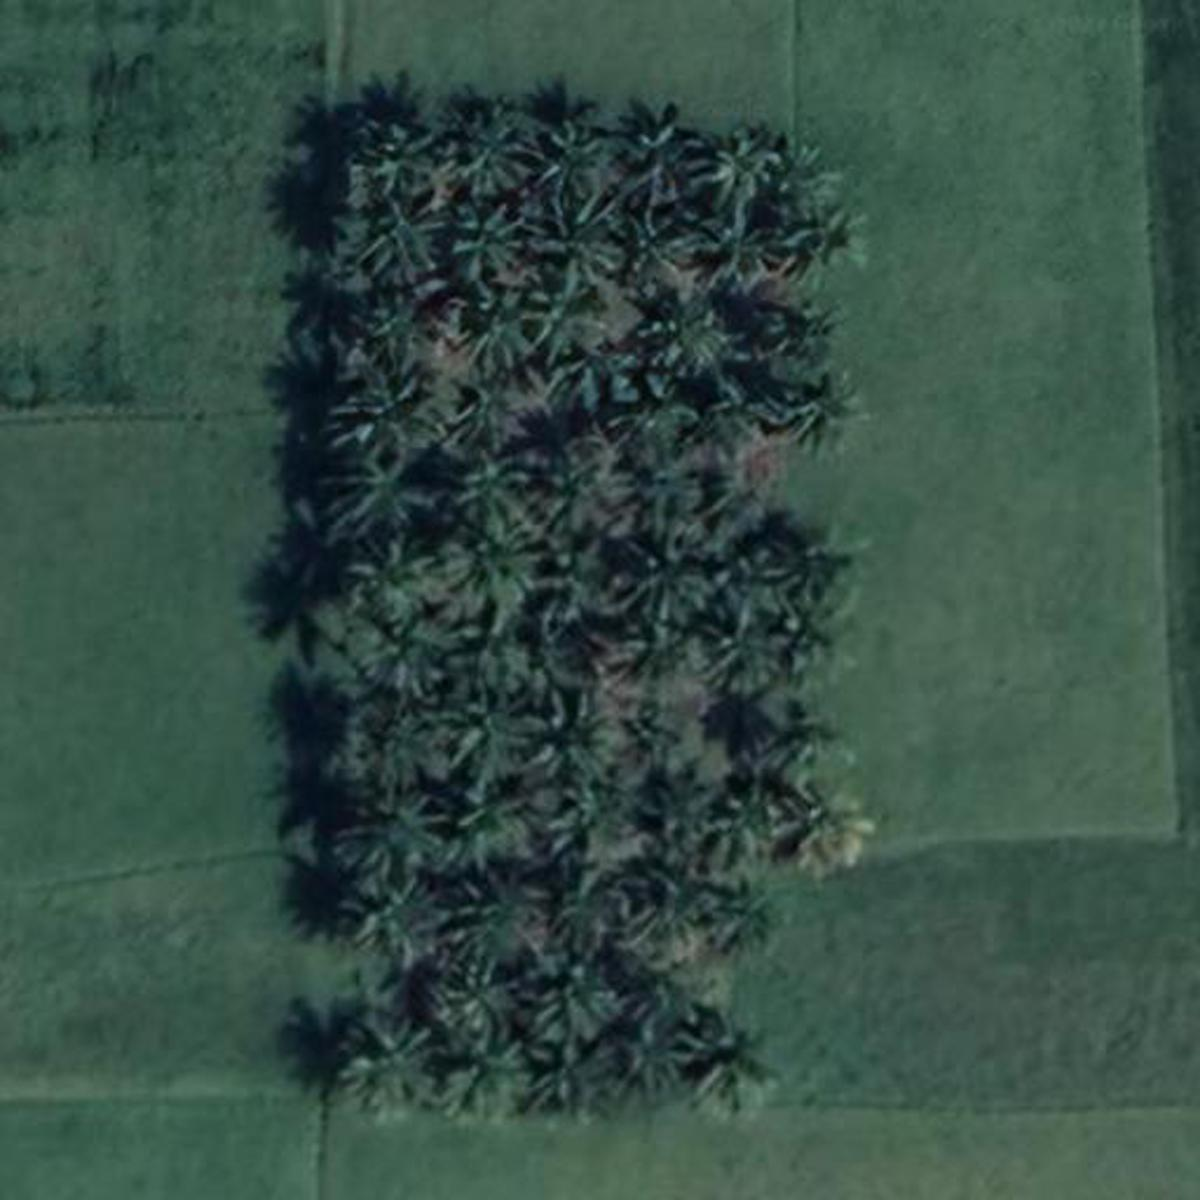coconut: (771, 370, 876, 466), (684, 180, 778, 284), (344, 778, 451, 869), (337, 1014, 426, 1122), (642, 278, 735, 379), (616, 956, 726, 1038), (679, 1031, 780, 1120), (325, 373, 438, 452), (344, 201, 459, 278), (431, 1035, 541, 1113), (440, 438, 525, 538), (621, 532, 707, 632), (525, 953, 627, 1035), (435, 541, 546, 616), (534, 780, 637, 860), (337, 536, 435, 621), (438, 693, 536, 778), (611, 440, 703, 529), (731, 703, 841, 778), (536, 440, 621, 532), (522, 203, 618, 285), (442, 114, 538, 192), (459, 281, 541, 373), (710, 536, 789, 630), (536, 696, 623, 780), (703, 775, 787, 862), (604, 1014, 686, 1103), (433, 946, 522, 1027), (332, 459, 431, 532), (609, 205, 707, 278), (792, 787, 874, 874), (543, 534, 618, 627), (457, 778, 541, 862), (367, 609, 459, 684), (442, 618, 543, 686), (618, 627, 712, 700), (703, 876, 796, 949), (623, 105, 698, 195), (562, 876, 642, 958), (635, 778, 712, 864), (789, 205, 884, 274), (451, 196, 529, 278), (534, 110, 609, 196), (638, 871, 712, 958), (700, 384, 778, 464), (796, 529, 874, 609), (358, 112, 440, 187), (349, 290, 438, 358), (621, 389, 710, 457), (546, 338, 630, 410), (527, 290, 614, 356), (451, 370, 525, 445), (349, 871, 424, 946), (707, 618, 778, 696), (353, 703, 431, 775), (541, 1042, 618, 1113), (768, 140, 853, 203), (705, 126, 780, 196), (766, 290, 836, 356), (471, 874, 553, 927), (700, 466, 766, 529), (808, 614, 864, 679)
